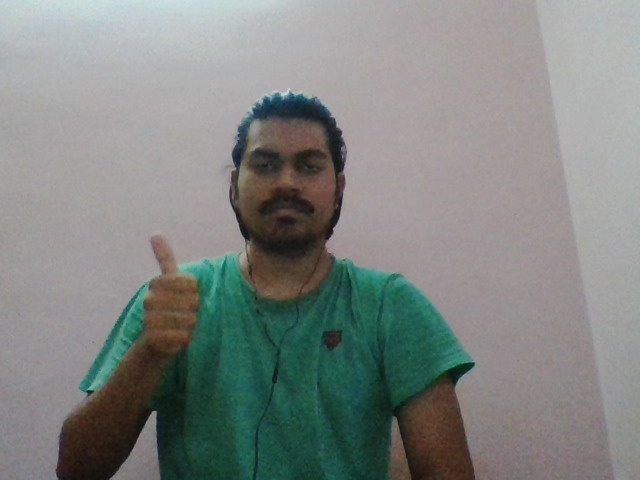ThumbsUp: (141, 233, 202, 356)
